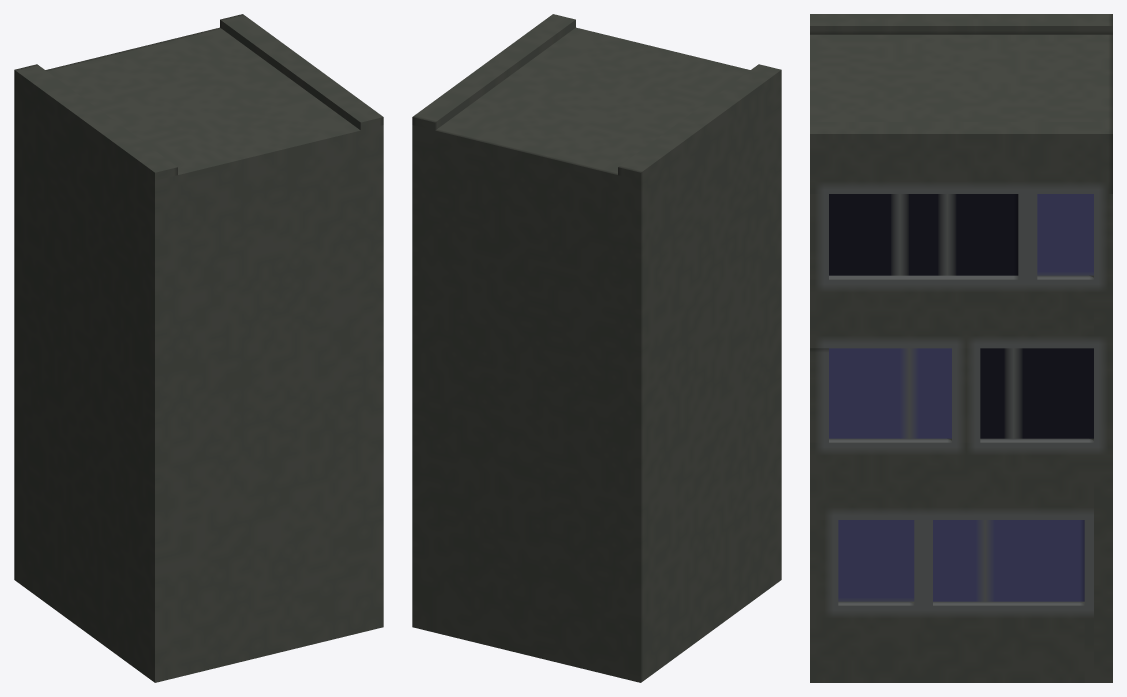
Rendered from u_okna_front_02.dae.
The picture shows the model from 3 angles, left to right: view 1: azimuth 30°, elevation 25°; view 2: azimuth 150°, elevation 25°; view 3: azimuth 270°, elevation 25°; orthographic projection. The views are drawn at different scales.
Visible parts, largest first — view 1: Content; view 2: Content; view 3: Content.
Part boxes in pixels (<box>): Content: <box>14,14,383,682</box>; Content: <box>412,14,781,682</box>; Content: <box>810,14,1112,682</box>.
Bounding box in the file's own units: 30 × 64 × 32.
1 material, 1 textured.
